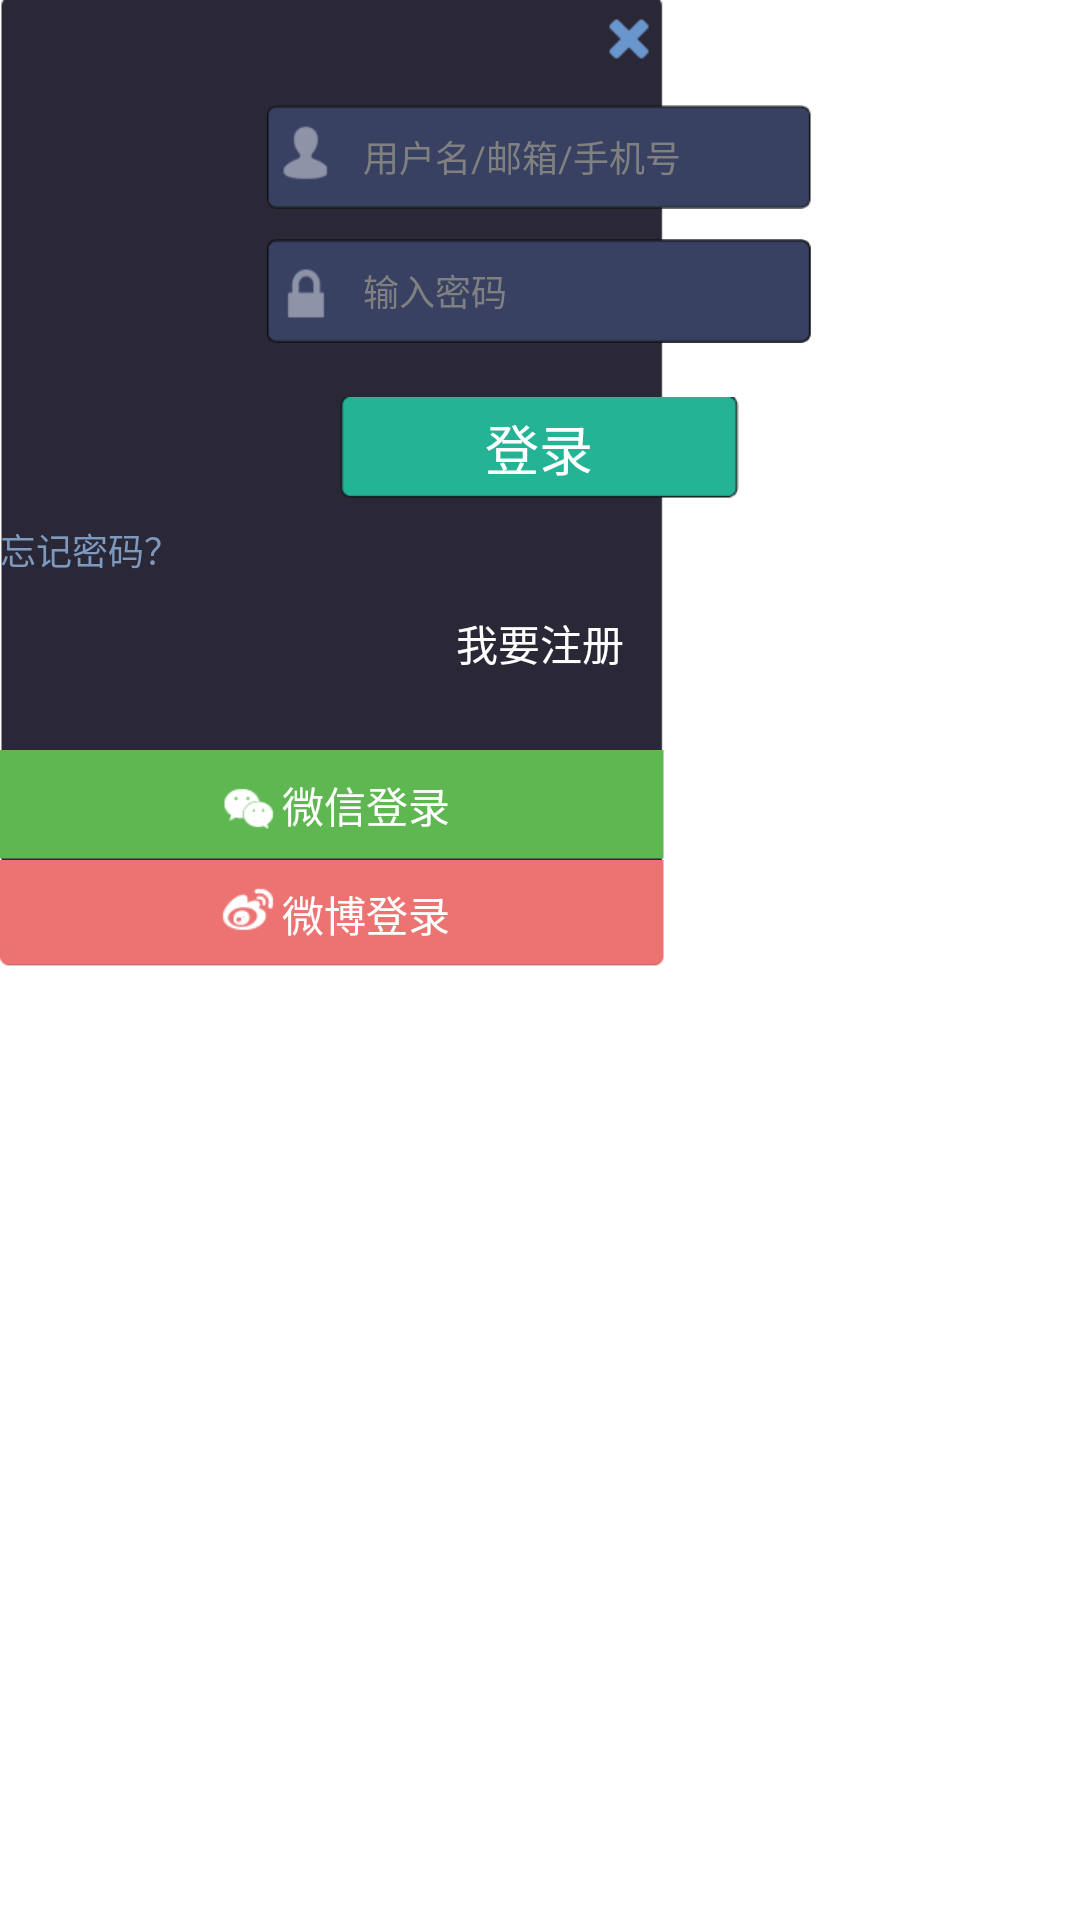

Named icons in this screenshot (1080px×1920px) and their centers, point (x, y):
dlg close: point (629, 39)
